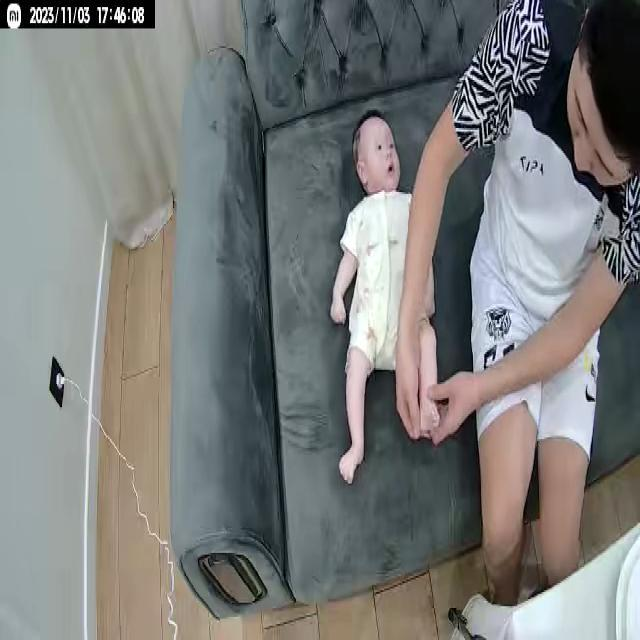baby: (329, 108, 444, 488)
